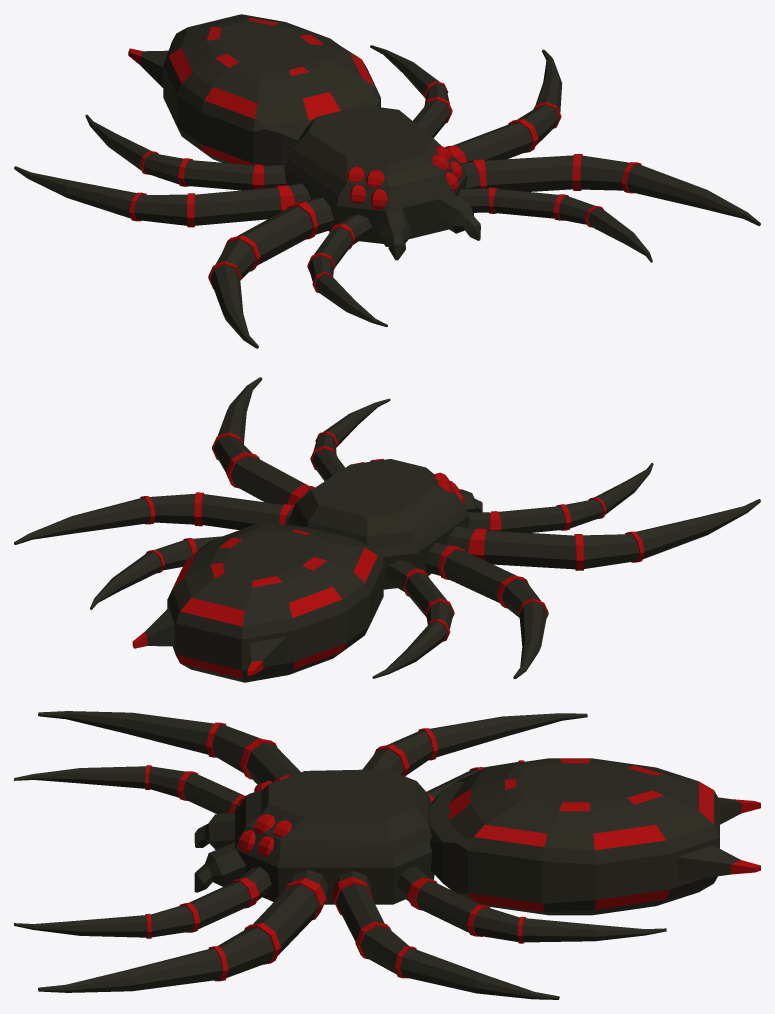
The model's file is Spider.fbx.
3 renders of one model, top to bottom at view 1: azimuth 30°, elevation 25°; view 2: azimuth 150°, elevation 25°; view 3: azimuth 270°, elevation 25°, orthographic. The views are drawn at different scales.
Parts seen in each view (by area): view 1: Spider_Model; view 2: Spider_Model; view 3: Spider_Model.
Part boxes in pixels (x1,y1,x2,y2): Spider_Model: [14, 14, 760, 348]; Spider_Model: [14, 377, 760, 682]; Spider_Model: [14, 711, 760, 999].
Bounding box in the file's own units: 726 × 125 × 803.
